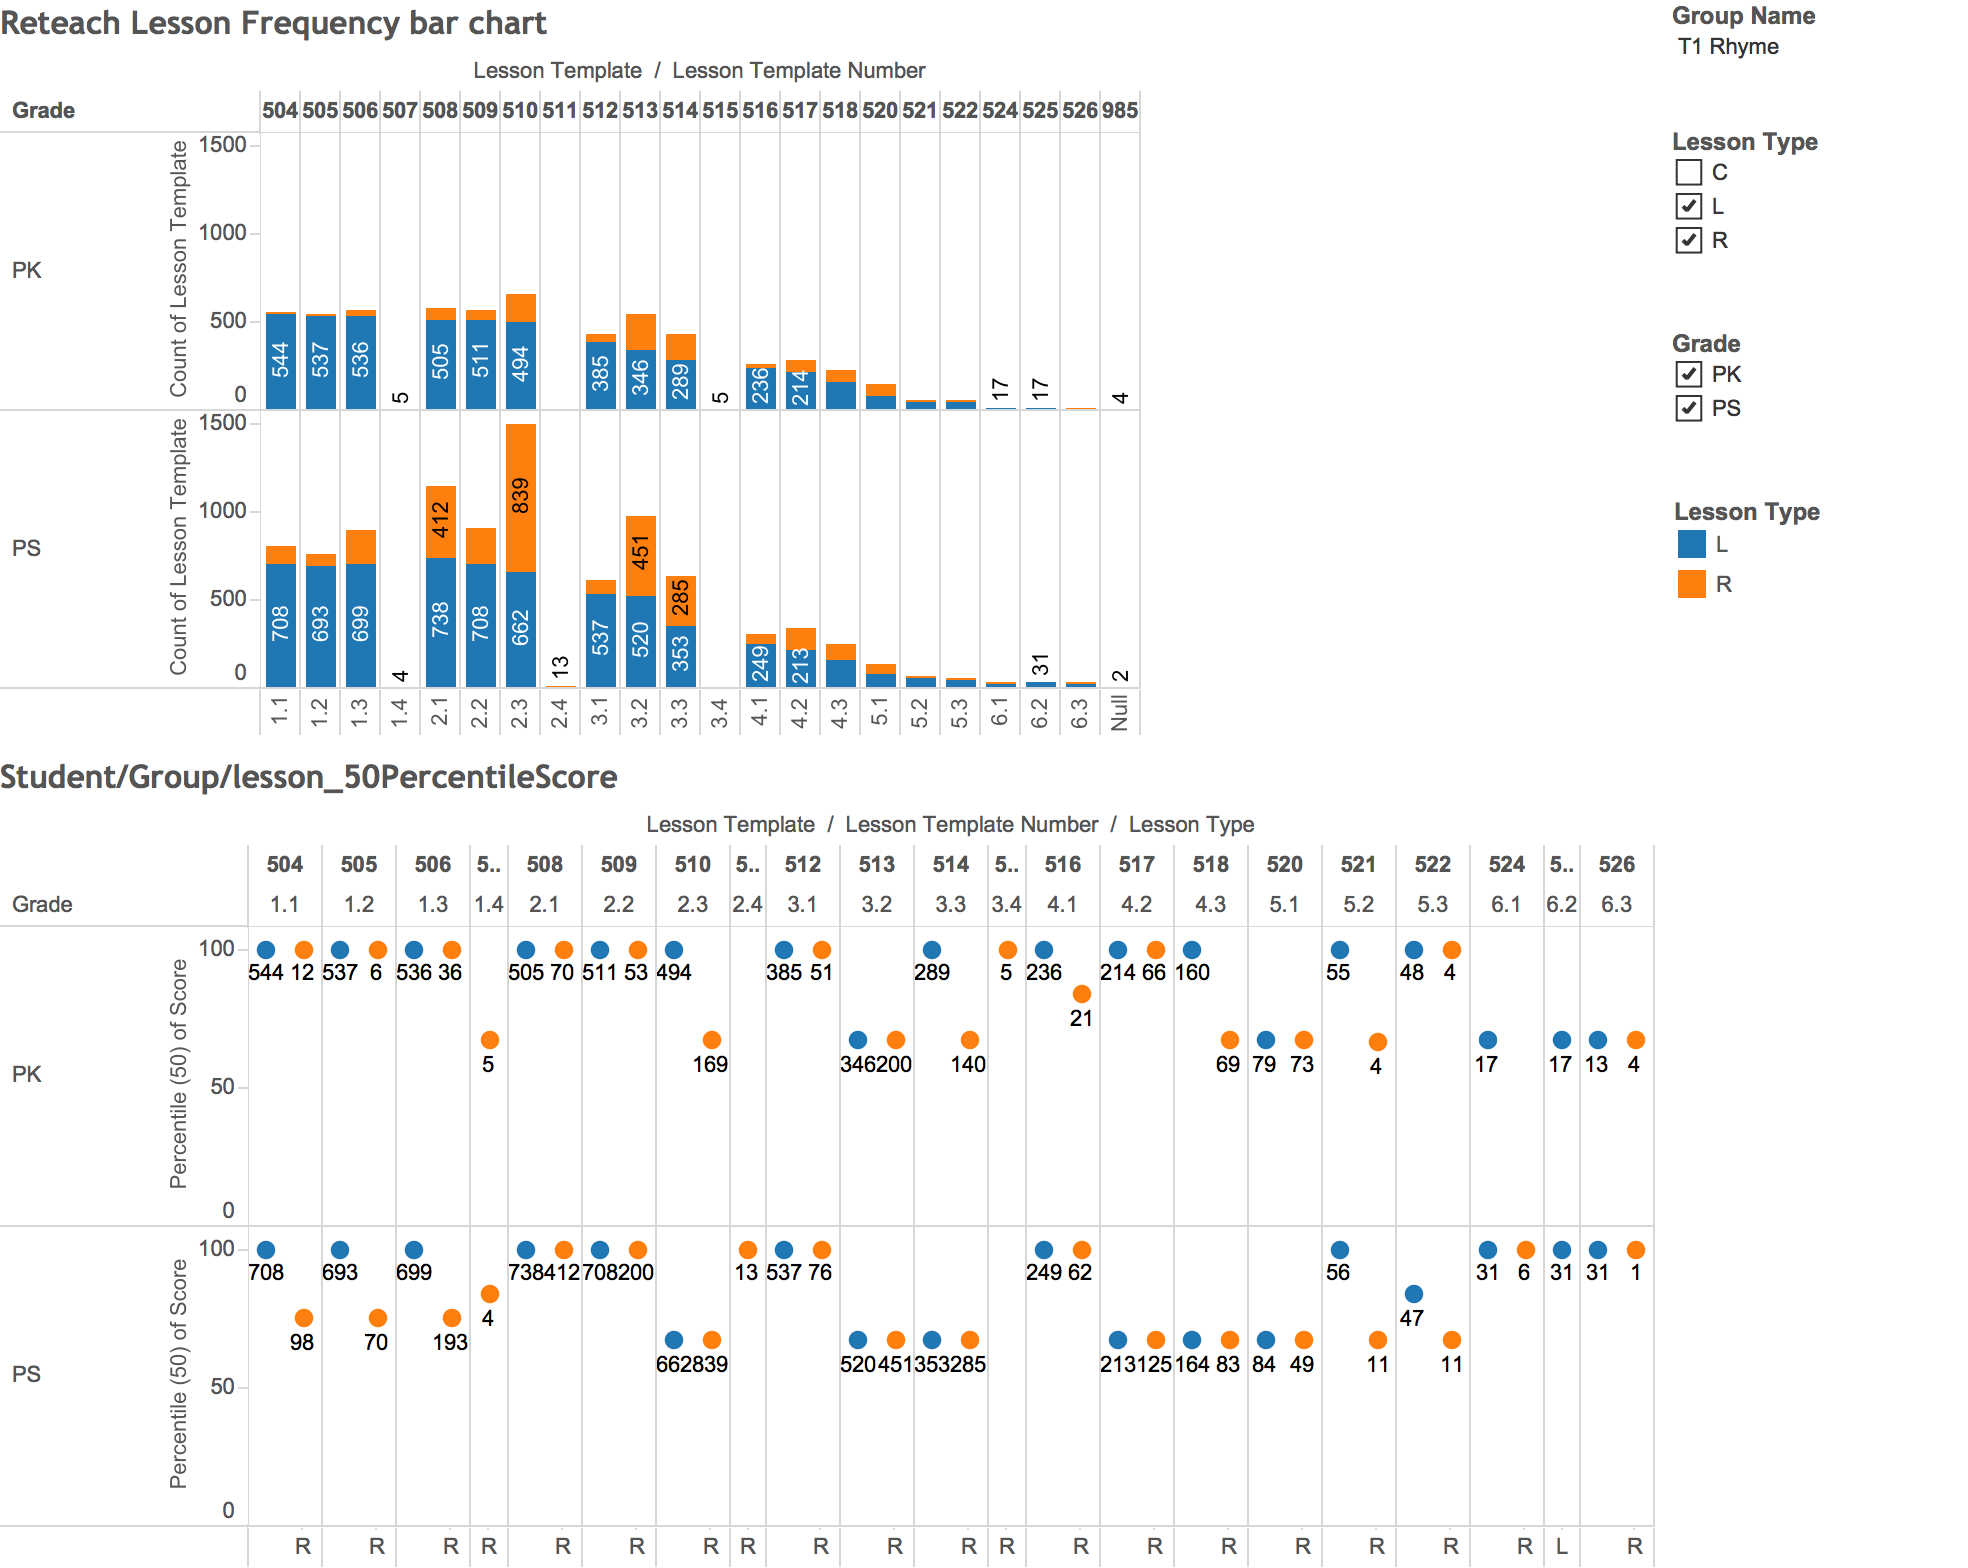

Layout of this report page (visuals, bound fields, positions):
{"tool":"tableau","page":{"name":"Dashboard 1","canvas":[1000,800],"ordinal":0},"visuals":[{"type":"worksheet","title":"Reteach Lesson Frequency bar chart","mark":"Automatic","rows":["Grade","Lesson_Template"],"cols":["Lesson_Template","Lesson_Template_Number"],"box":[0,0,840,381]},{"type":"filter","title":"Student/Group/lesson_50PercentileScore","param":"[textscan.10tgiqs1o791wk16nm4ri0eyldqq].[none:Group Name:nk]","box":[840,0,160,67]},{"type":"filter","title":"Student/Group/lesson_50PercentileScore","param":"[textscan.10tgiqs1o791wk16nm4ri0eyldqq].[none:Lesson_Type:nk]","box":[840,67,160,101]},{"type":"filter","title":"Student/Group/lesson_50PercentileScore","param":"[textscan.10tgiqs1o791wk16nm4ri0eyldqq].[none:Grade:nk]","box":[840,168,160,83]},{"type":"legend","title":"Student/Group/lesson_50PercentileScore","param":"[textscan.10tgiqs1o791wk16nm4ri0eyldqq].[none:Lesson_Type:nk]","box":[840,251,160,63]},{"type":"worksheet","title":"Student/Group/lesson_50PercentileScore","mark":"Circle","rows":["Grade","Score"],"cols":["Lesson_Template","Lesson_Template_Number","Lesson_Type"],"box":[0,381,840,419]}]}

Visuals, with their boxes in screenshot pixels (x1, y1, x2, y2), scaled from the page's 1000x800 canvas onto the 1968x1568 screenshot:
"Reteach Lesson Frequency bar chart" worksheet: 0 0 1653 747
"Student/Group/lesson_50PercentileScore" filter: 1653 0 1967 131
"Student/Group/lesson_50PercentileScore" filter: 1653 131 1967 329
"Student/Group/lesson_50PercentileScore" filter: 1653 329 1967 492
"Student/Group/lesson_50PercentileScore" legend: 1653 492 1967 615
"Student/Group/lesson_50PercentileScore" worksheet (Circle marks): 0 747 1653 1567
